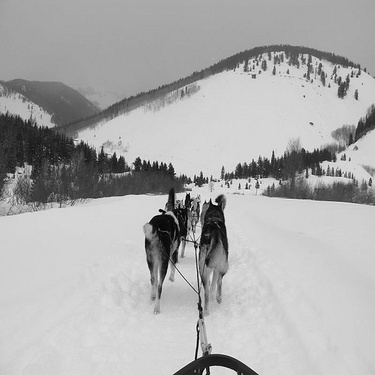dog: (136, 202, 188, 320), (198, 200, 230, 315), (159, 188, 191, 260), (200, 196, 228, 225), (183, 191, 200, 233)
